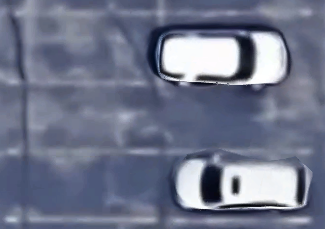Occupied: (162, 13, 312, 84), (162, 152, 313, 221)
Vacant: (9, 12, 162, 84), (9, 152, 162, 221), (9, 83, 161, 152), (161, 84, 313, 152)
